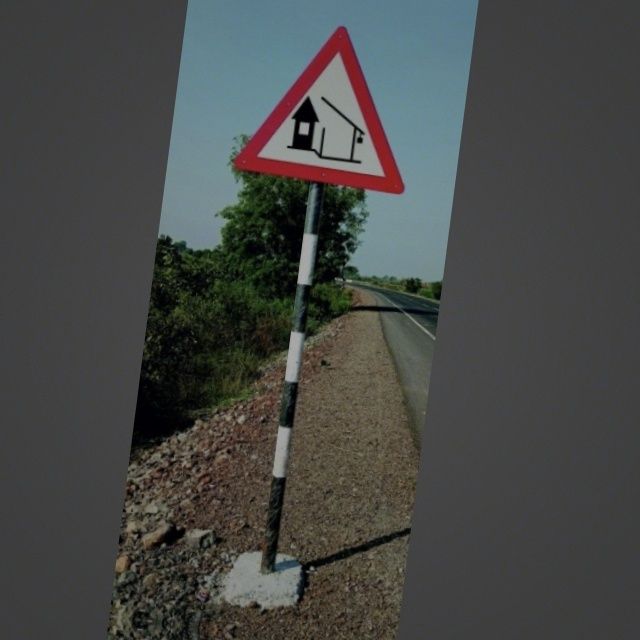Barrier_Ahead: (237, 19, 422, 191)
